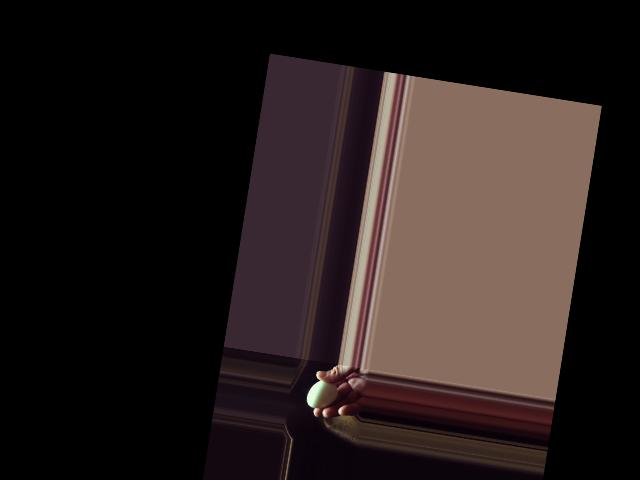egg: (305, 378, 339, 410)
